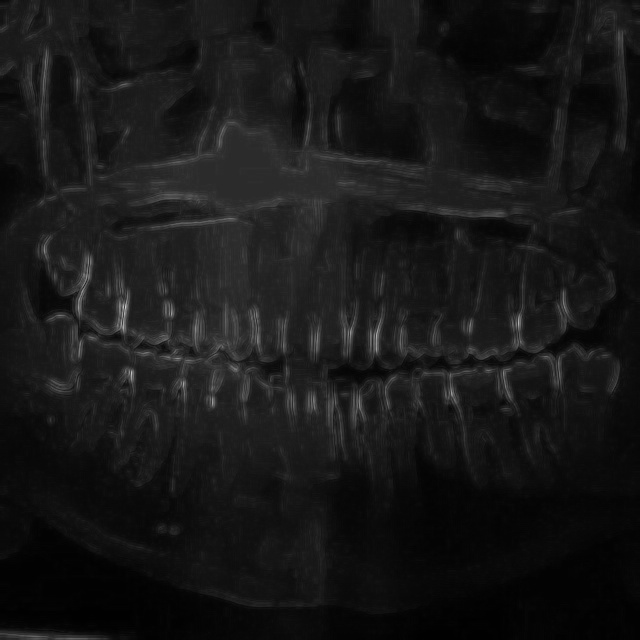cavity: (412, 364, 620, 517), (73, 323, 215, 521), (345, 223, 479, 364)
